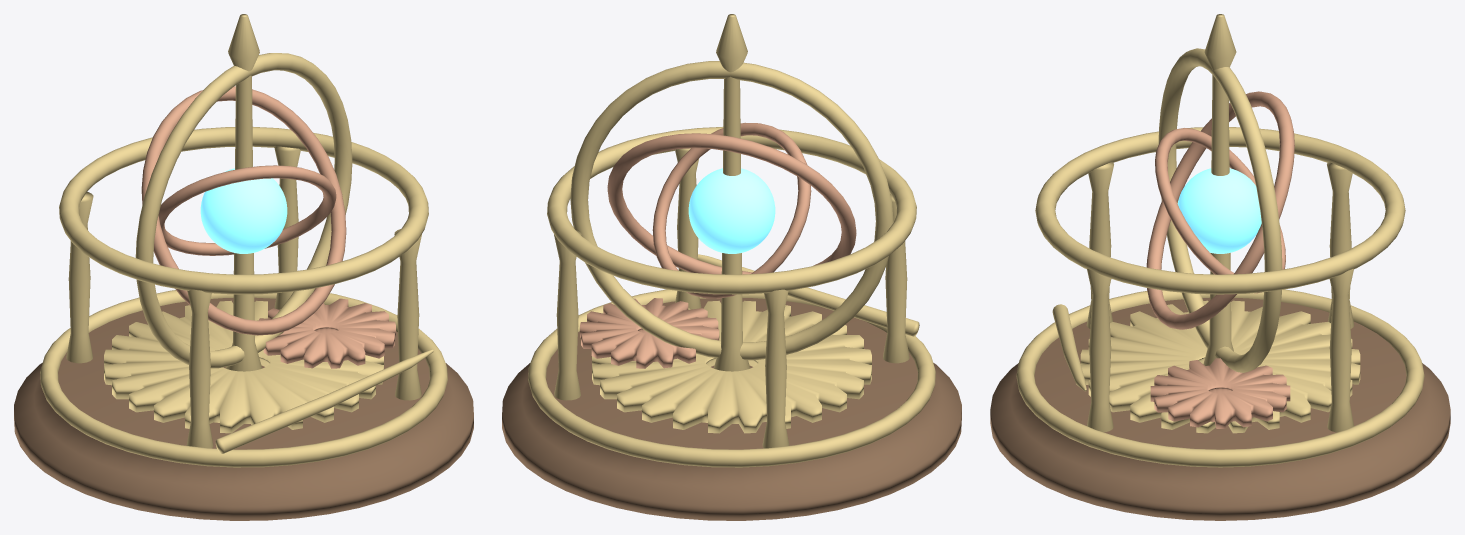
The model's file is webtoon-celestial-ink-astrolabe-turntable-v15.glb.
3 views of the same model, side by side, from view 1: azimuth 30°, elevation 25°; view 2: azimuth 150°, elevation 25°; view 3: azimuth 270°, elevation 25° (orthographic).
Parts seen in each view (by area): view 1: AstrolabeBrassMechanism.001, AstrolabeWalnutPlinth.001, AstrolabeCopperRings.001, AstrolabeSapphireCore.001; view 2: AstrolabeBrassMechanism.001, AstrolabeWalnutPlinth.001, AstrolabeCopperRings.001, AstrolabeSapphireCore.001; view 3: AstrolabeBrassMechanism.001, AstrolabeWalnutPlinth.001, AstrolabeCopperRings.001, AstrolabeSapphireCore.001.
Part boxes in pixels (x1,y1,x2,y2): AstrolabeBrassMechanism.001: (40,14,447,467); AstrolabeWalnutPlinth.001: (14,297,473,520); AstrolabeCopperRings.001: (141,86,395,368); AstrolabeSapphireCore.001: (200,168,287,253); AstrolabeBrassMechanism.001: (528,14,935,467); AstrolabeWalnutPlinth.001: (502,298,961,520); AstrolabeCopperRings.001: (580,122,856,368); AstrolabeSapphireCore.001: (688,168,775,253); AstrolabeBrassMechanism.001: (1016,14,1424,467); AstrolabeWalnutPlinth.001: (990,297,1450,520); AstrolabeCopperRings.001: (1146,91,1294,428); AstrolabeSapphireCore.001: (1177,168,1261,253).
Bounding box in the file's own units: 0.92 × 0.9 × 0.92.
